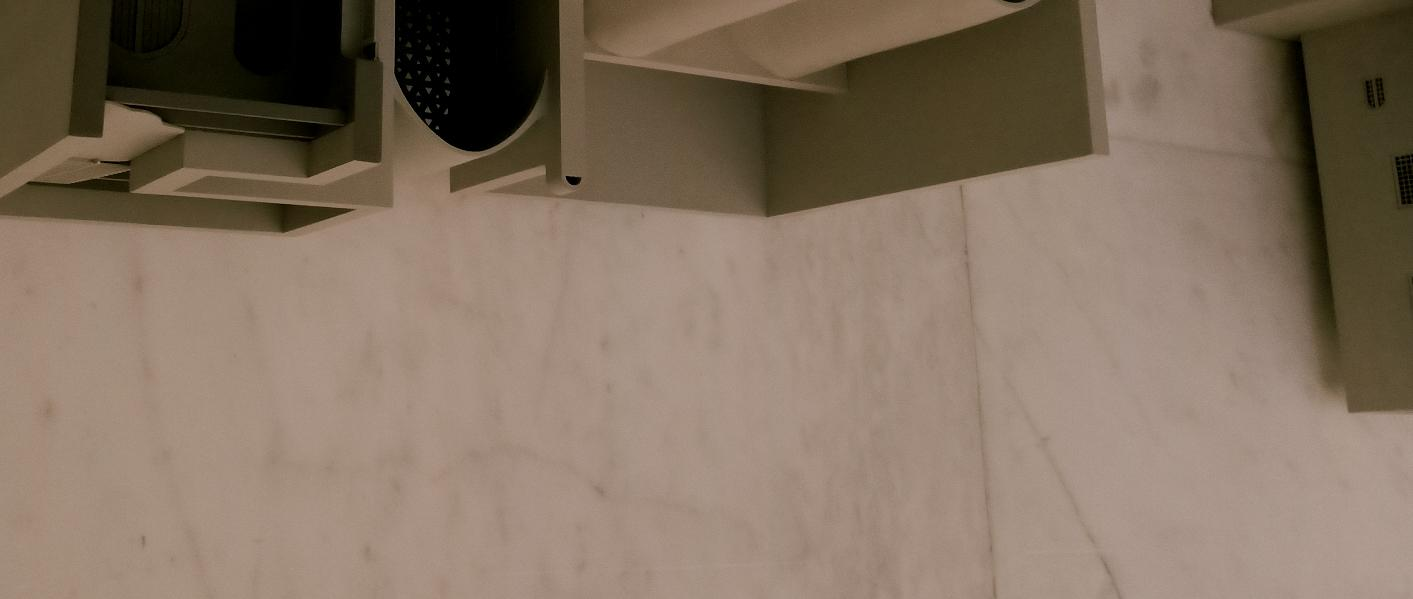HassanFathi: (0, 0, 1332, 245)
